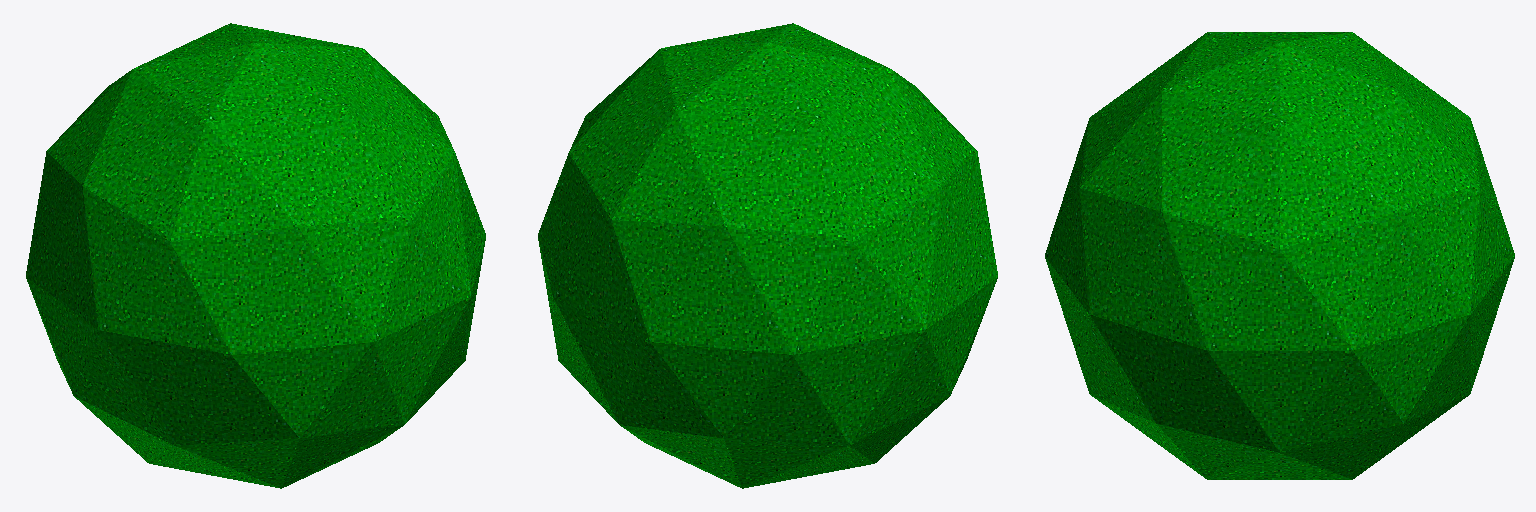
3 views of the same model, side by side, from view 1: azimuth 30°, elevation 25°; view 2: azimuth 150°, elevation 25°; view 3: azimuth 270°, elevation 25° (orthographic).
Visible parts, largest first — view 1: itembox-SKP--ef_rainbows; view 2: itembox-SKP--ef_rainbows; view 3: itembox-SKP--ef_rainbows.
Boxes of the visible parts, x1,y1,x2,y2 form: itembox-SKP--ef_rainbows: [26, 23, 485, 488]; itembox-SKP--ef_rainbows: [538, 23, 997, 488]; itembox-SKP--ef_rainbows: [1045, 32, 1514, 479].
Bounding box in the file's own units: 222 × 233 × 233.
Materials: 2 (1 with a texture image).